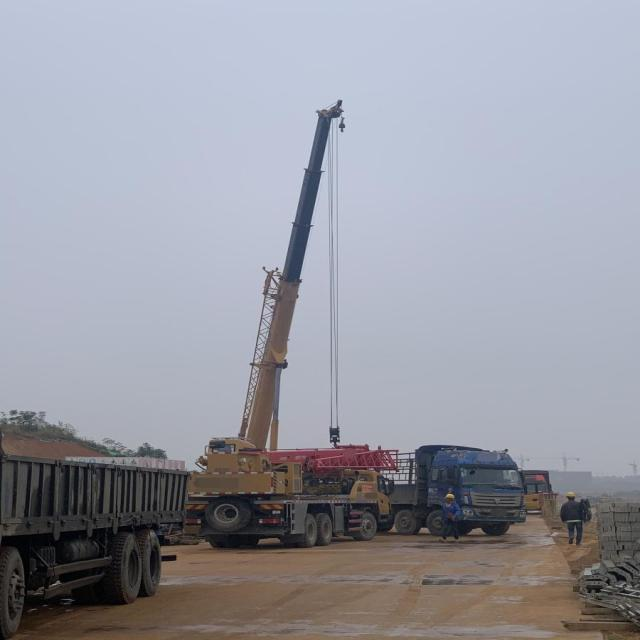crane: (172, 94, 405, 564)
